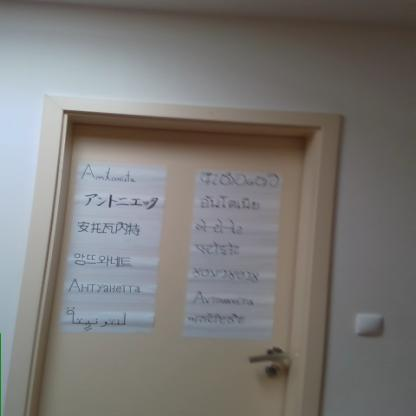closed: (19, 101, 354, 416)
